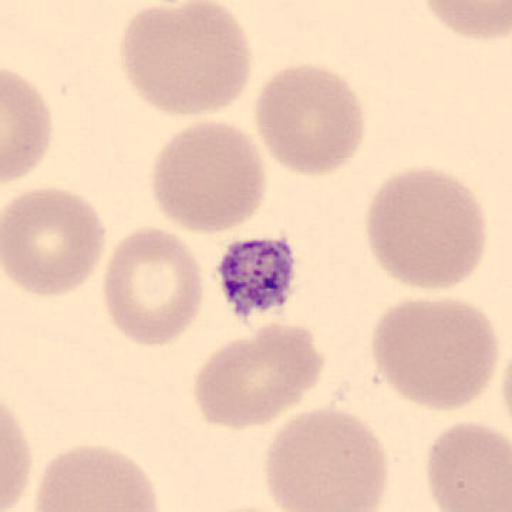Platelet: (216, 235, 300, 319)
RBC: (364, 164, 489, 294), (118, 0, 255, 118), (370, 295, 502, 412), (192, 321, 326, 431), (148, 118, 270, 236), (252, 60, 367, 178), (262, 406, 390, 512), (100, 225, 204, 348), (2, 184, 106, 298), (34, 441, 162, 512), (425, 419, 512, 512), (2, 66, 53, 186), (419, 0, 512, 42), (1, 403, 32, 512)
